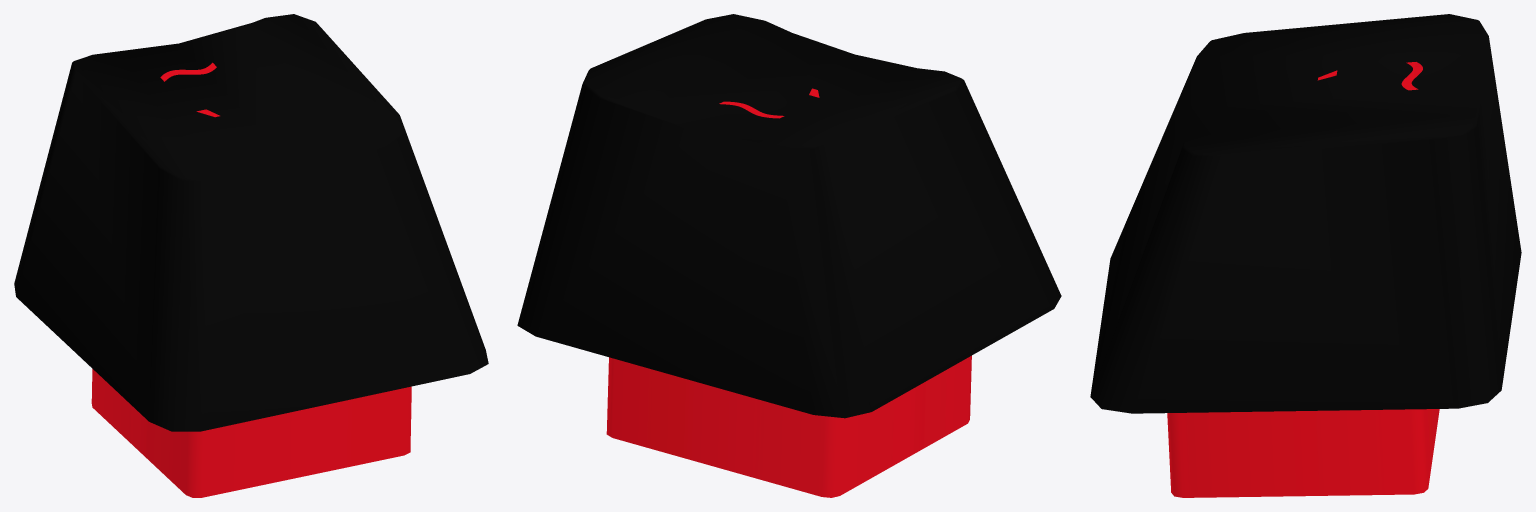
The model's file is key_12-CCc2yTpz.glb.
3 renders of one model, left to right at view 1: azimuth 30°, elevation 25°; view 2: azimuth 150°, elevation 25°; view 3: azimuth 270°, elevation 25°, orthographic. The views are drawn at different scales.
Parts seen in each view (by area): view 1: StudyShelf_1183; view 2: StudyShelf_1183; view 3: StudyShelf_1183.
Part boxes in pixels (bbox=[...]): StudyShelf_1183: bbox=[14, 14, 488, 497]; StudyShelf_1183: bbox=[517, 14, 1061, 497]; StudyShelf_1183: bbox=[1090, 14, 1521, 497].
Size of the model in its own units: 4.35 by 4.14 by 4.35.
2 materials, 1 textured.
